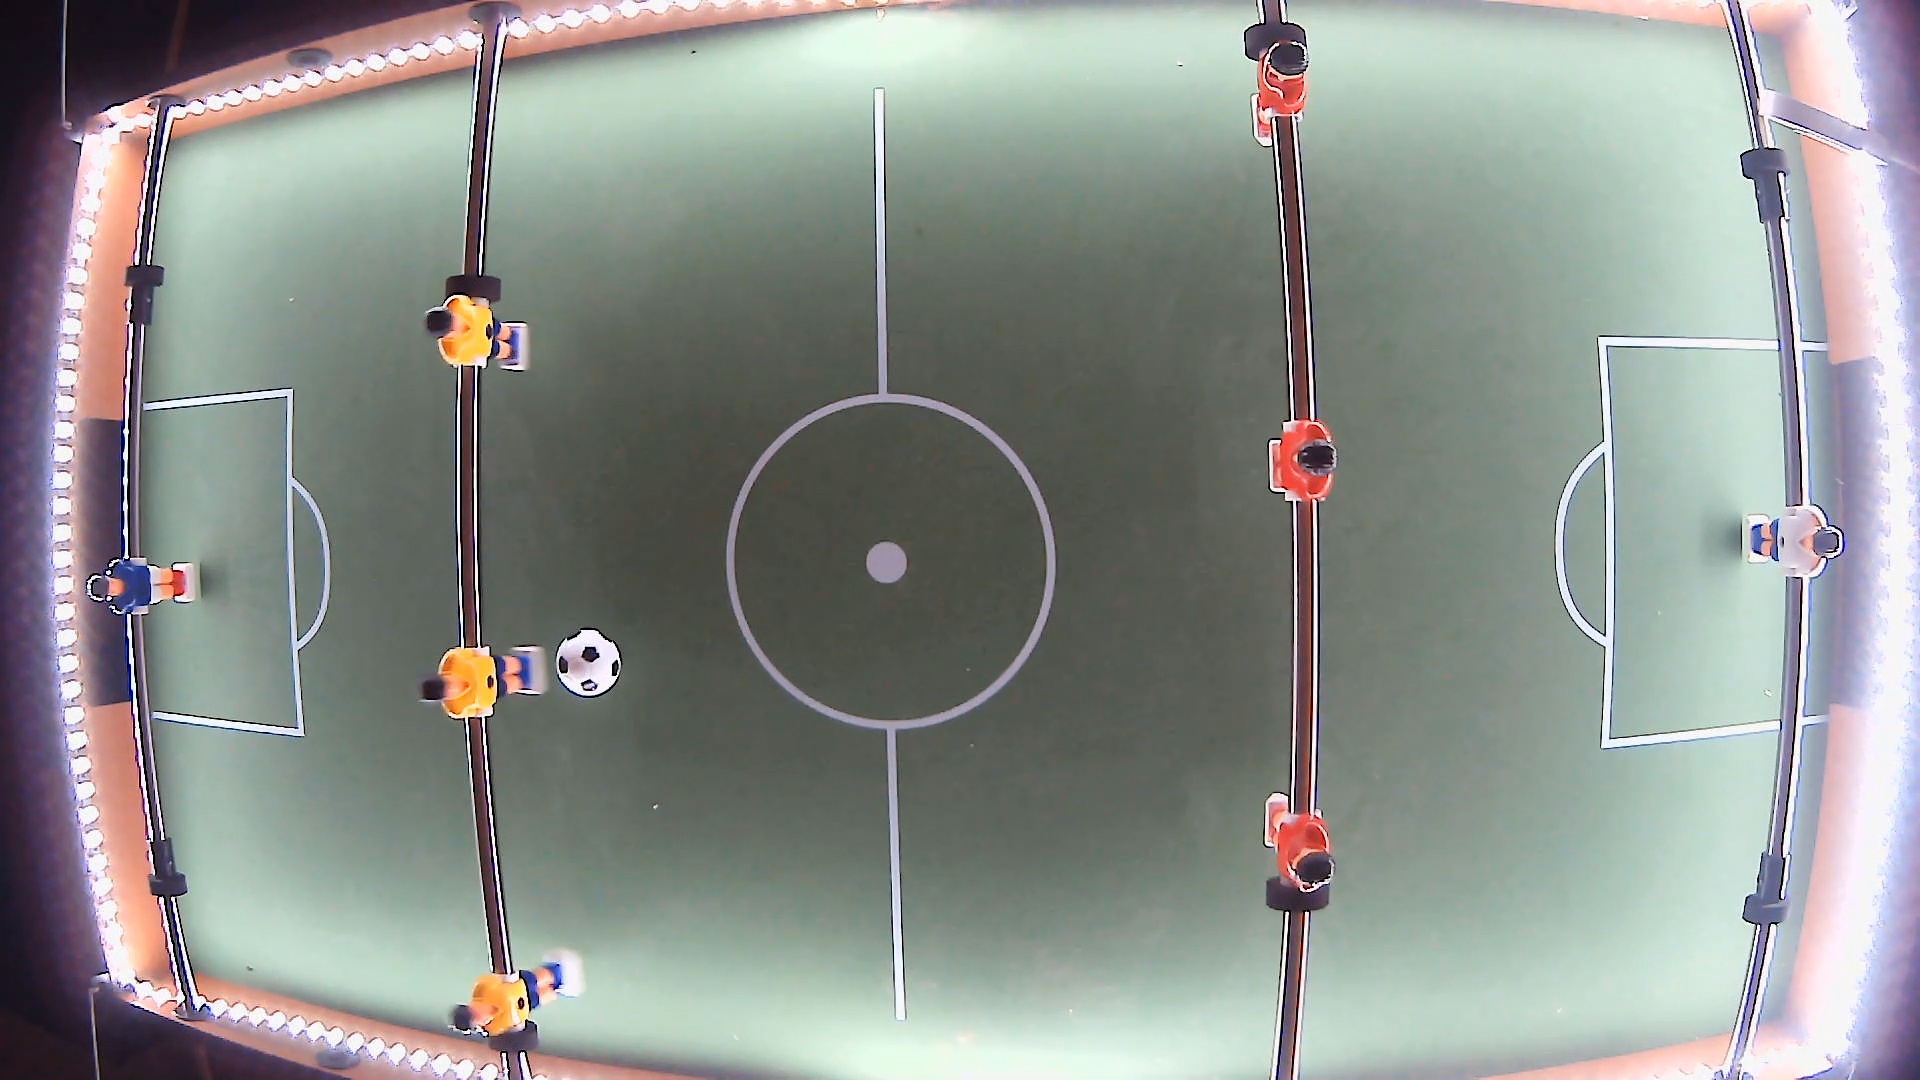Foosball: (556, 626, 621, 699)
